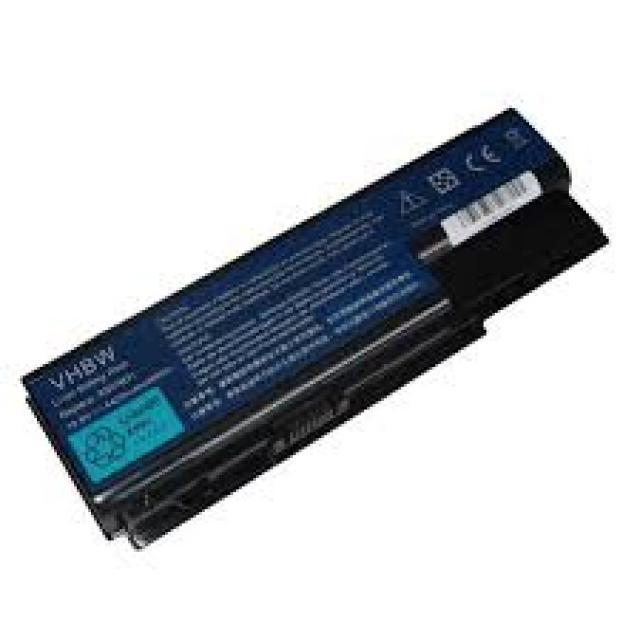battery: (20, 109, 608, 550)
